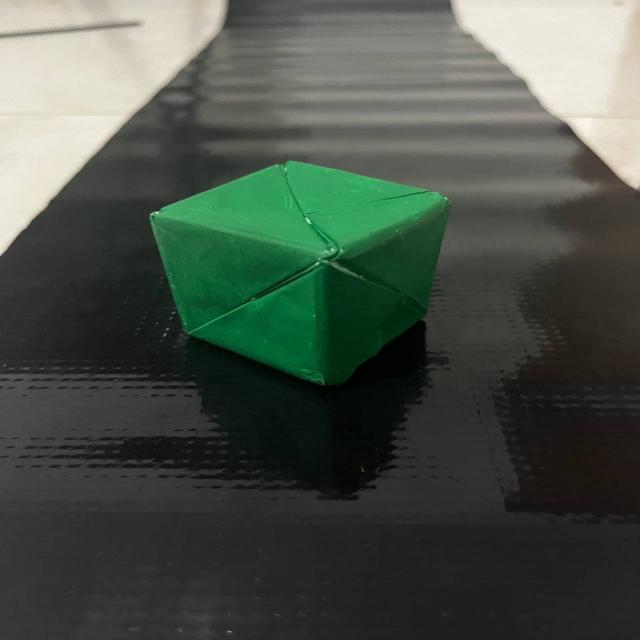Verde: (138, 136, 464, 403)
